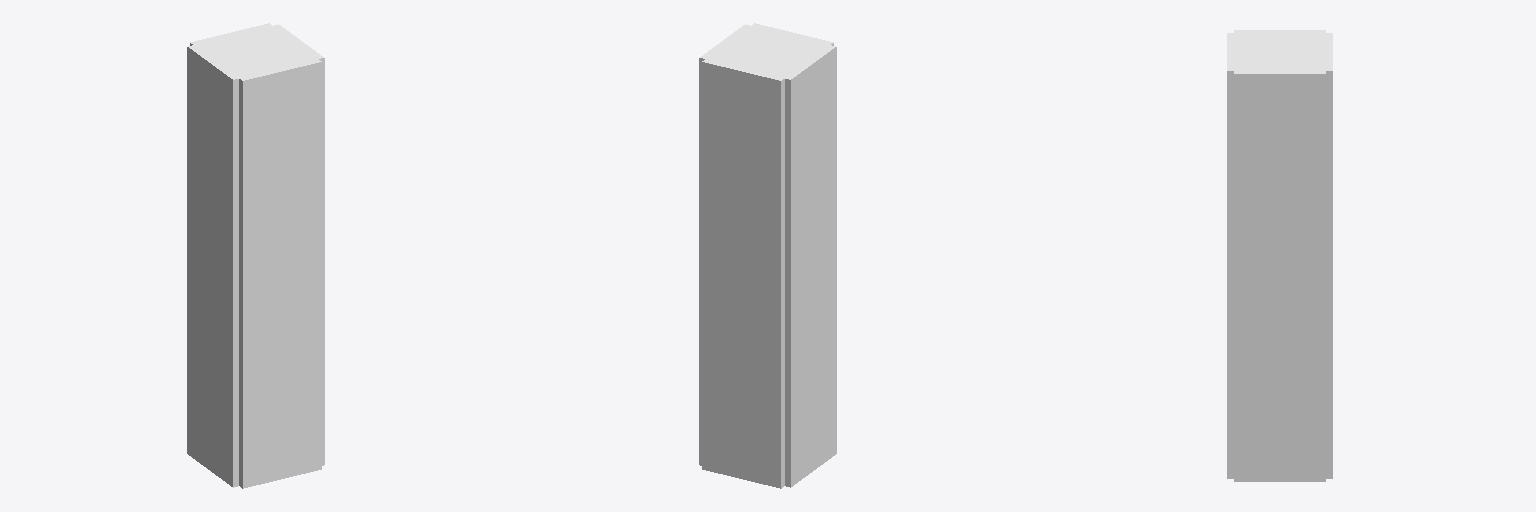
The model's file is MazeBlock_norm_02.obj.
3 views of the same model, side by side, from view 1: azimuth 30°, elevation 25°; view 2: azimuth 150°, elevation 25°; view 3: azimuth 270°, elevation 25° (orthographic).
Parts seen in each view (by area): view 1: object 1; view 2: object 1; view 3: object 1.
Part boxes in pixels (left/top/right/bottom): object 1: left=187, top=23, right=324, bottom=488; object 1: left=699, top=23, right=836, bottom=488; object 1: left=1227, top=30, right=1332, bottom=481.
Size of the model in its own units: 1.5 by 6.4 by 1.5.